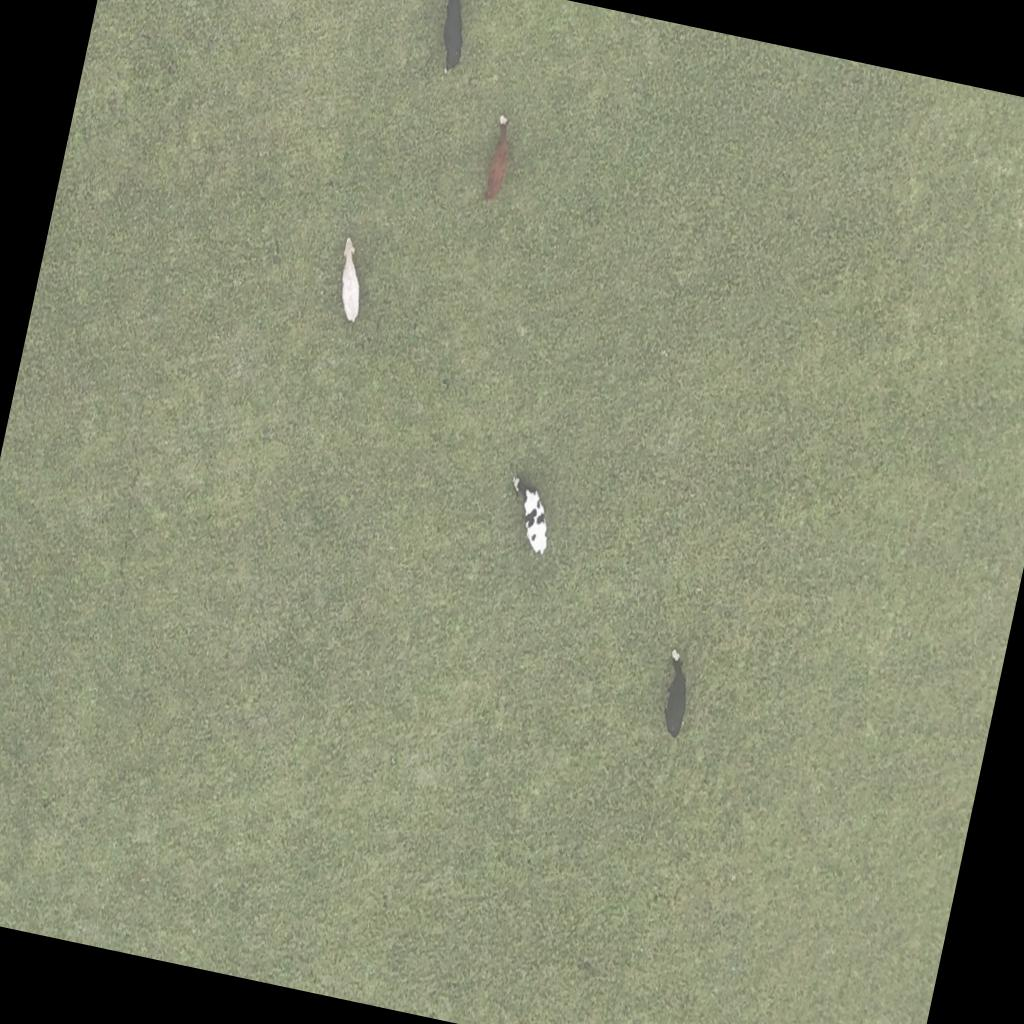cow: (489, 462, 565, 568), (326, 232, 378, 330), (654, 648, 698, 740), (426, 0, 476, 79), (482, 112, 519, 204)
